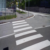zebra: (12, 20, 50, 50)
